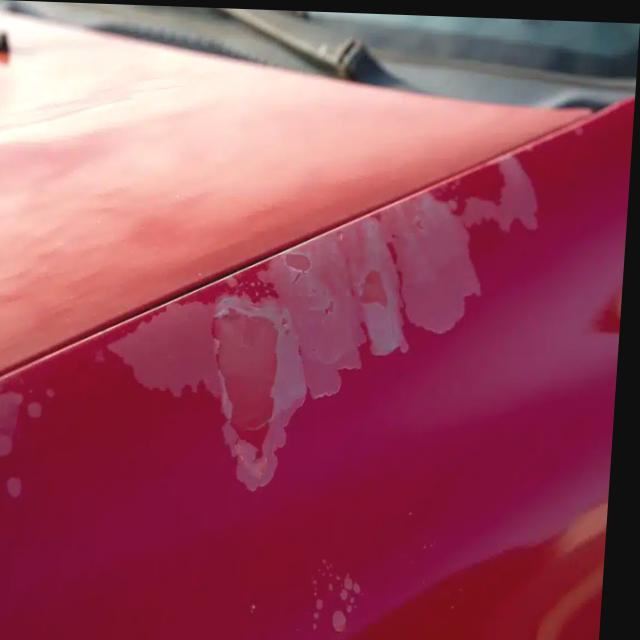Paint-fading: (87, 142, 553, 507), (0, 366, 60, 524), (302, 548, 377, 640)
